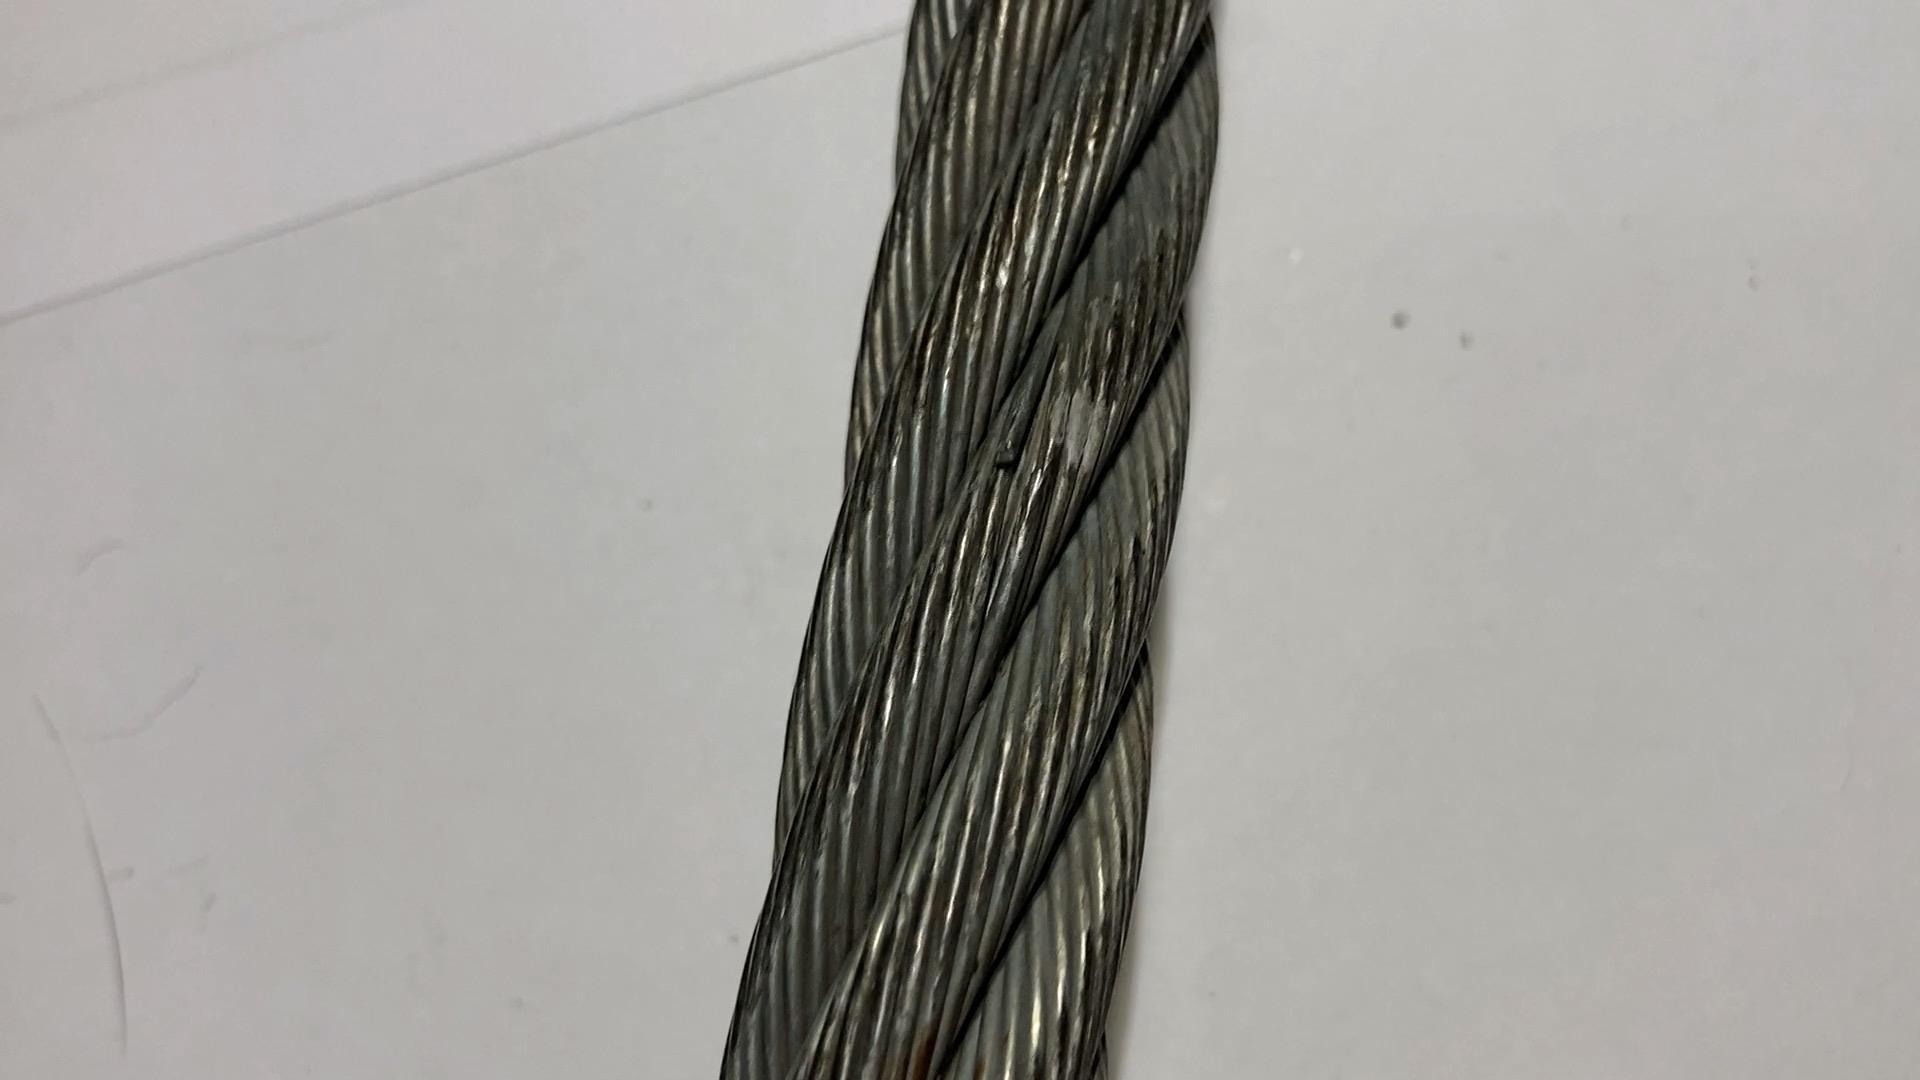break: (981, 400, 1080, 526)
